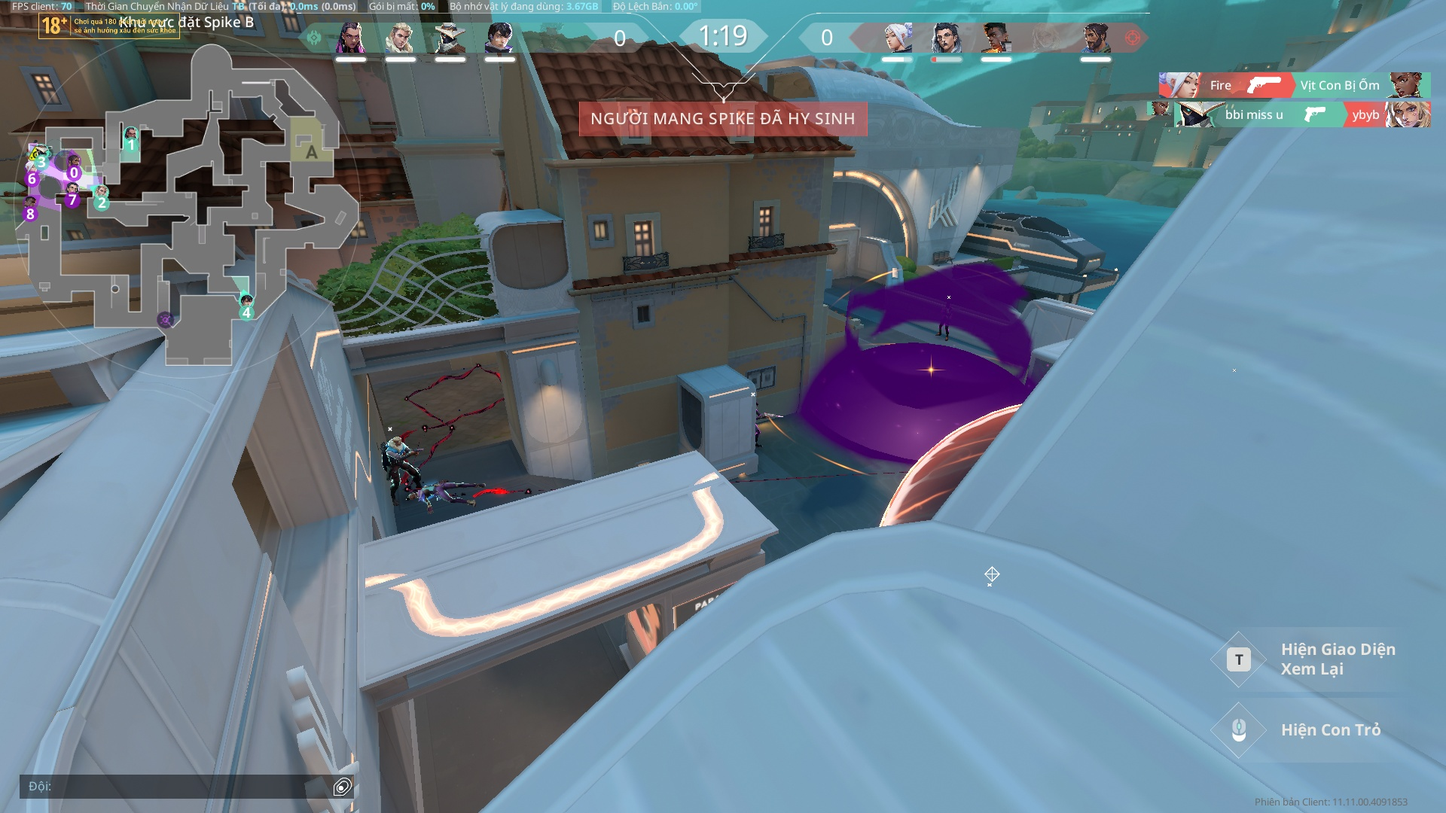head: (755, 400, 760, 410)
